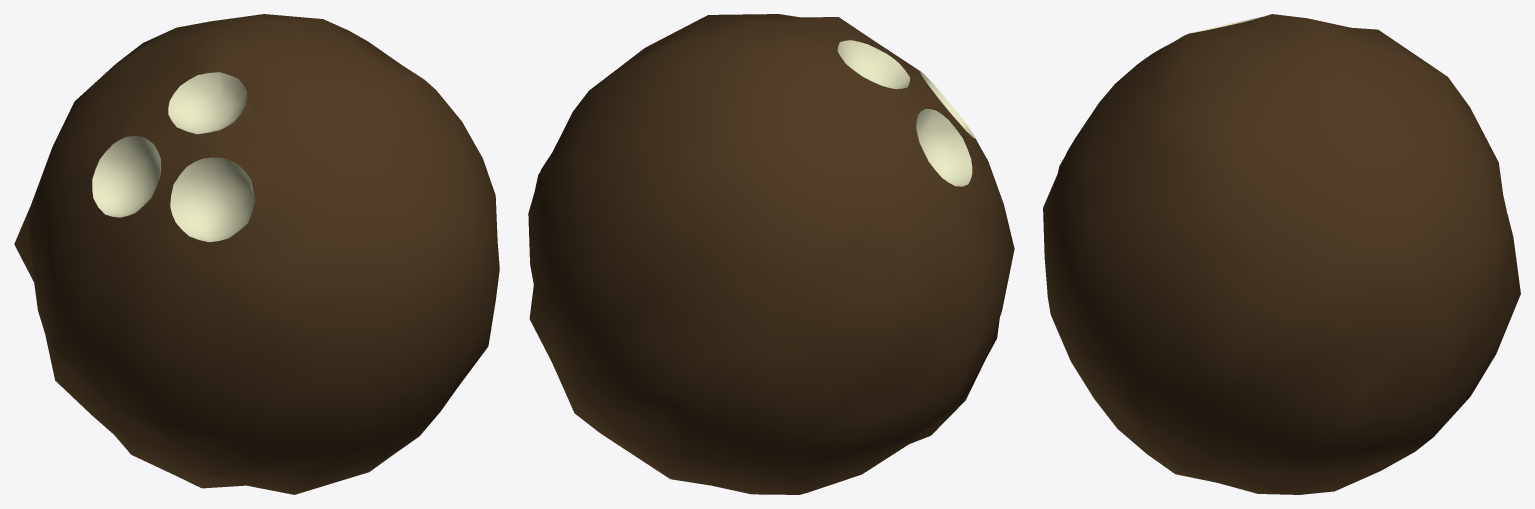
File: CoconutBall.fbx
3 renders of one model, left to right at view 1: azimuth 30°, elevation 25°; view 2: azimuth 150°, elevation 25°; view 3: azimuth 270°, elevation 25°, orthographic.
Parts seen in each view (by area): view 1: CoconutBall; view 2: CoconutBall; view 3: CoconutBall.
Boxes of the visible parts, left/top/right/bottom form: CoconutBall: left=14, top=14, right=499, bottom=494; CoconutBall: left=528, top=14, right=1014, bottom=494; CoconutBall: left=1043, top=14, right=1520, bottom=494.
Bounding box in the file's own units: 204 × 202 × 200.
